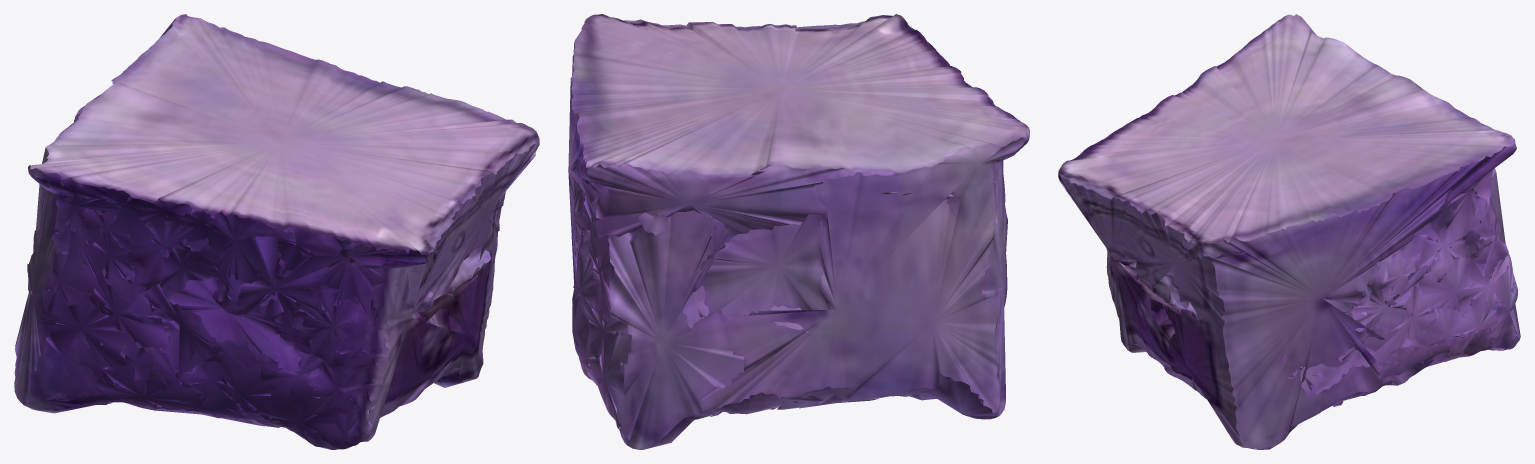
File: 6_sofa.glb
The picture shows the model from 3 angles, left to right: view 1: azimuth 30°, elevation 25°; view 2: azimuth 150°, elevation 25°; view 3: azimuth 270°, elevation 25°; orthographic projection. The views are drawn at different scales.
Visible parts, largest first — view 1: 6_sofa; view 2: 6_sofa; view 3: 6_sofa.
Boxes of the visible parts, bbox=[...] form: 6_sofa: bbox=[14, 14, 539, 449]; 6_sofa: bbox=[568, 14, 1029, 449]; 6_sofa: bbox=[1058, 14, 1520, 449].
Size of the model in its own units: 0.9551 by 0.6029 by 0.9528.
Materials: 1 (1 with a texture image).
